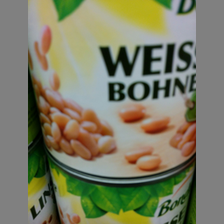beans: (28, 1, 197, 185)
